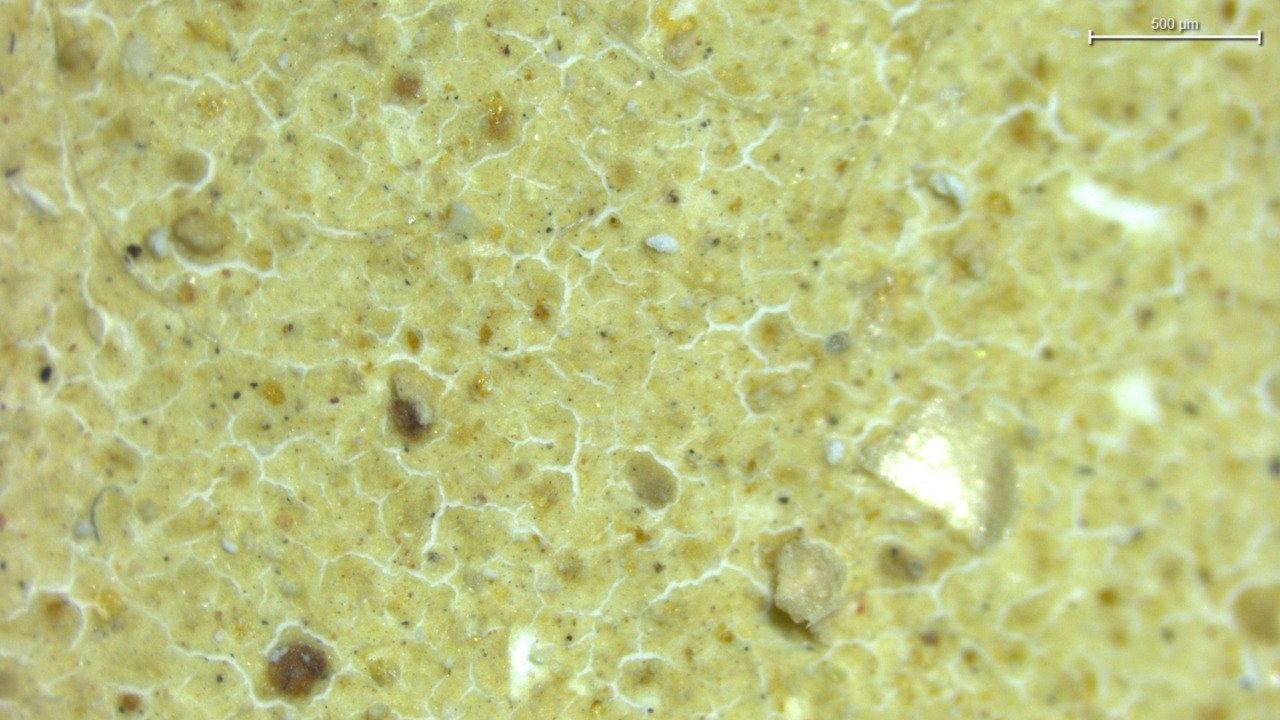microplastic_fragment: (868, 399, 1020, 552), (774, 539, 847, 627), (170, 205, 232, 257), (931, 171, 965, 203), (648, 235, 678, 253)
